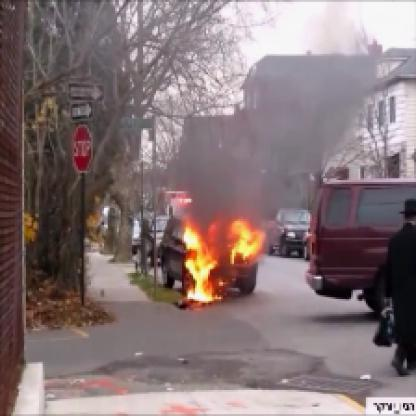Fire: (177, 180, 258, 307)
